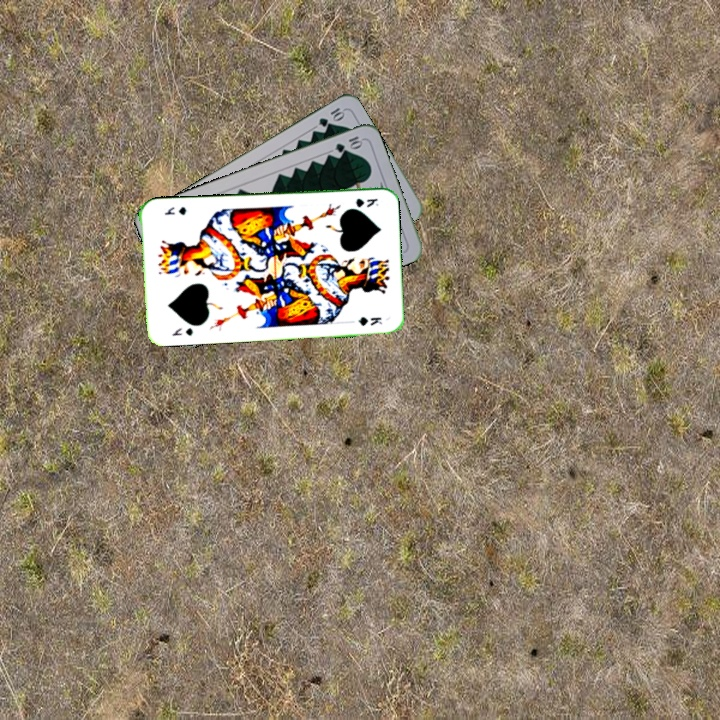G10: (315, 103, 347, 130), (331, 132, 365, 155)
GK: (352, 194, 381, 210), (168, 324, 195, 338)
